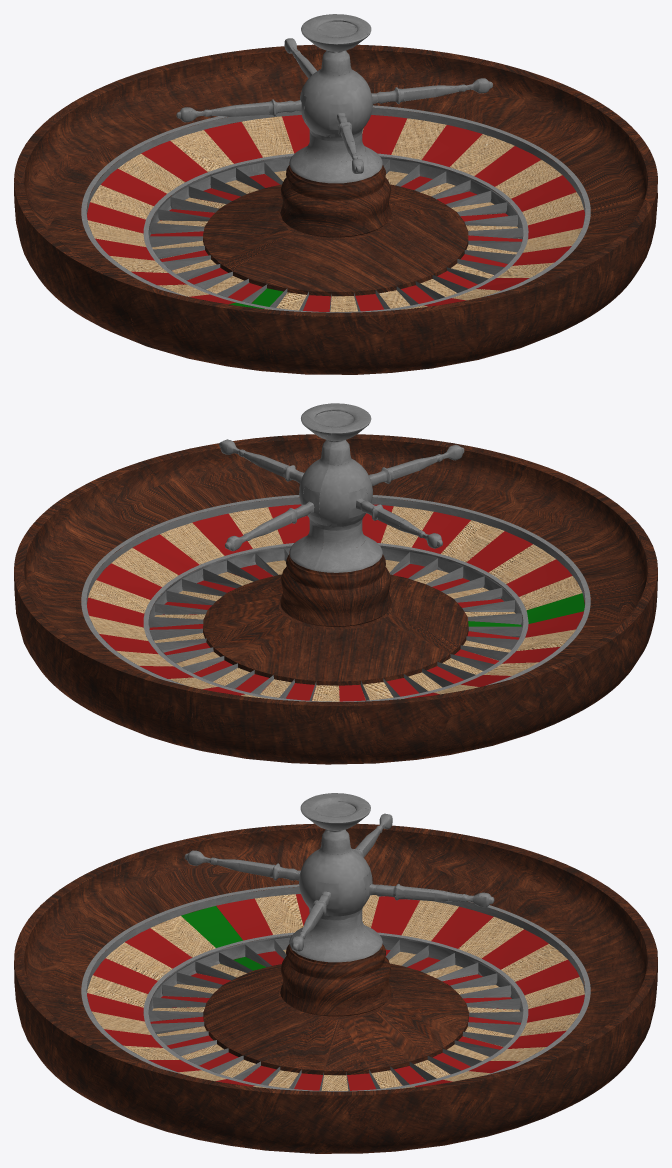
The model's file is cs_roulette_table.fbx.
3 renders of one model, top to bottom at view 1: azimuth 30°, elevation 25°; view 2: azimuth 150°, elevation 25°; view 3: azimuth 270°, elevation 25°, orthographic.
Parts seen in each view (by area): view 1: cs_roulette_table_LOD0; view 2: cs_roulette_table_LOD0; view 3: cs_roulette_table_LOD0.
Part boxes in pixels (x1,y1,x2,y2): cs_roulette_table_LOD0: [14, 14, 657, 374]; cs_roulette_table_LOD0: [14, 403, 657, 764]; cs_roulette_table_LOD0: [14, 793, 657, 1153].
Size of what is drawn, in the model's own units: 4.19 by 1.62 by 4.19.
1 material, 1 textured.
